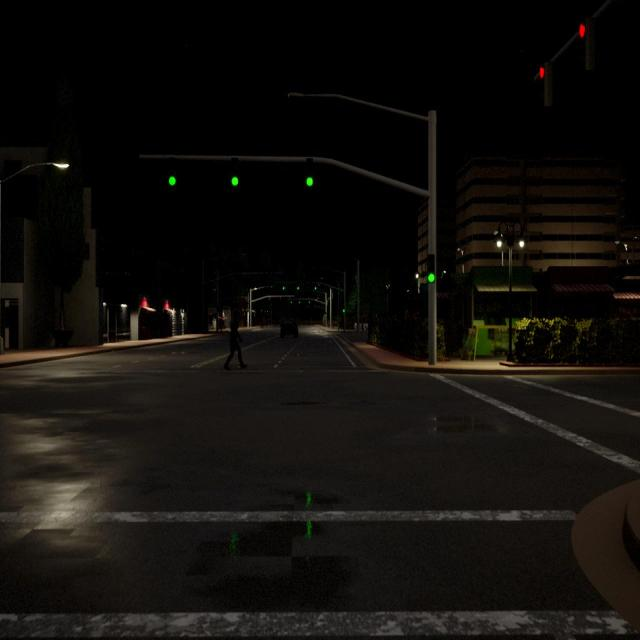Pedestrian: (223, 313, 247, 372)
Vehicle: (280, 319, 299, 339)
traffic_light: (579, 22, 595, 72), (539, 62, 553, 109), (305, 157, 314, 187), (426, 254, 435, 283), (168, 156, 176, 186), (231, 158, 239, 186), (314, 286, 317, 290), (282, 287, 285, 290), (297, 286, 299, 290), (343, 309, 345, 313), (309, 298, 310, 304), (291, 299, 292, 304), (299, 299, 300, 304)
